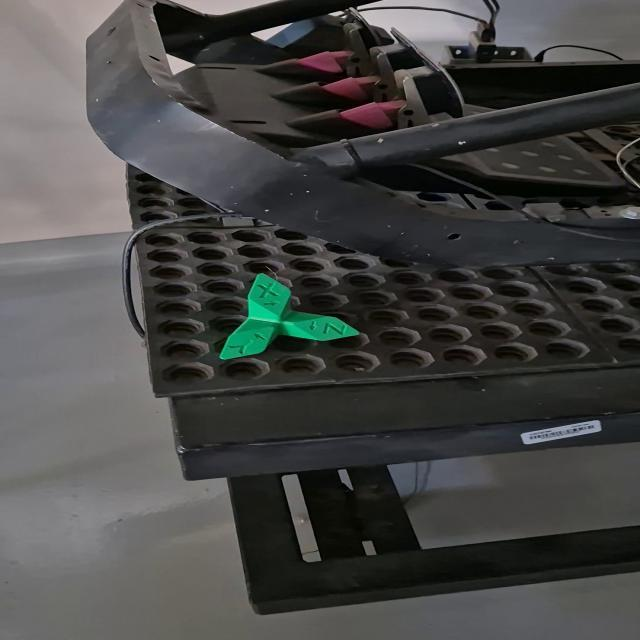eje: (218, 272, 361, 360)
